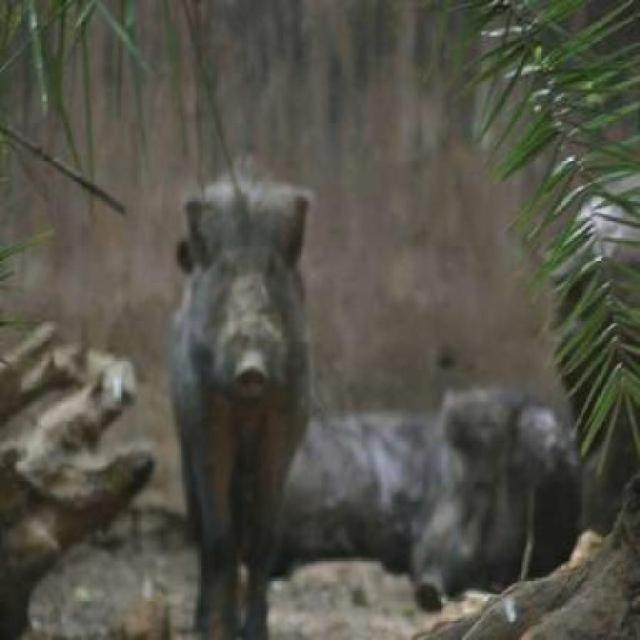Boar: (157, 155, 354, 612)
